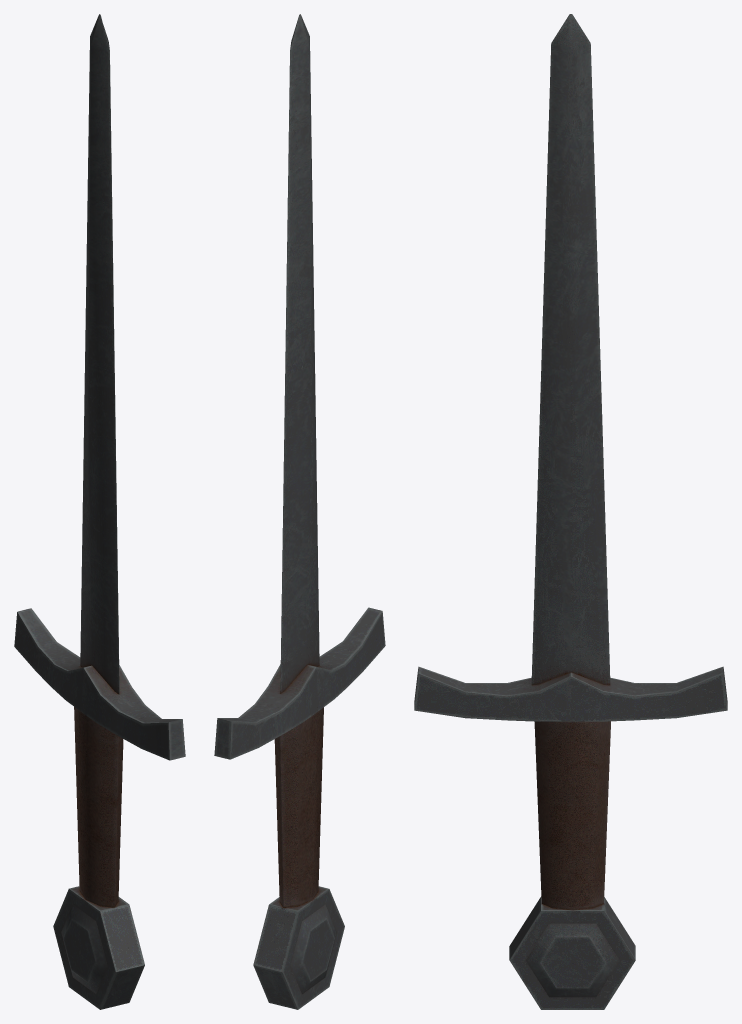
Rendered from dagger.glb.
3 renders of one model, left to right at view 1: azimuth 30°, elevation 25°; view 2: azimuth 150°, elevation 25°; view 3: azimuth 270°, elevation 25°, orthographic.
Visible parts, largest first — view 1: dagger; view 2: dagger; view 3: dagger.
Part boxes in pixels (x1,y1,x2,y2): dagger: [14, 14, 185, 1009]; dagger: [214, 14, 385, 1009]; dagger: [414, 14, 727, 1009].
Bounding box in the file's own units: 0.0331 × 0.794 × 0.2283.
Materials: 1 (1 with a texture image).
